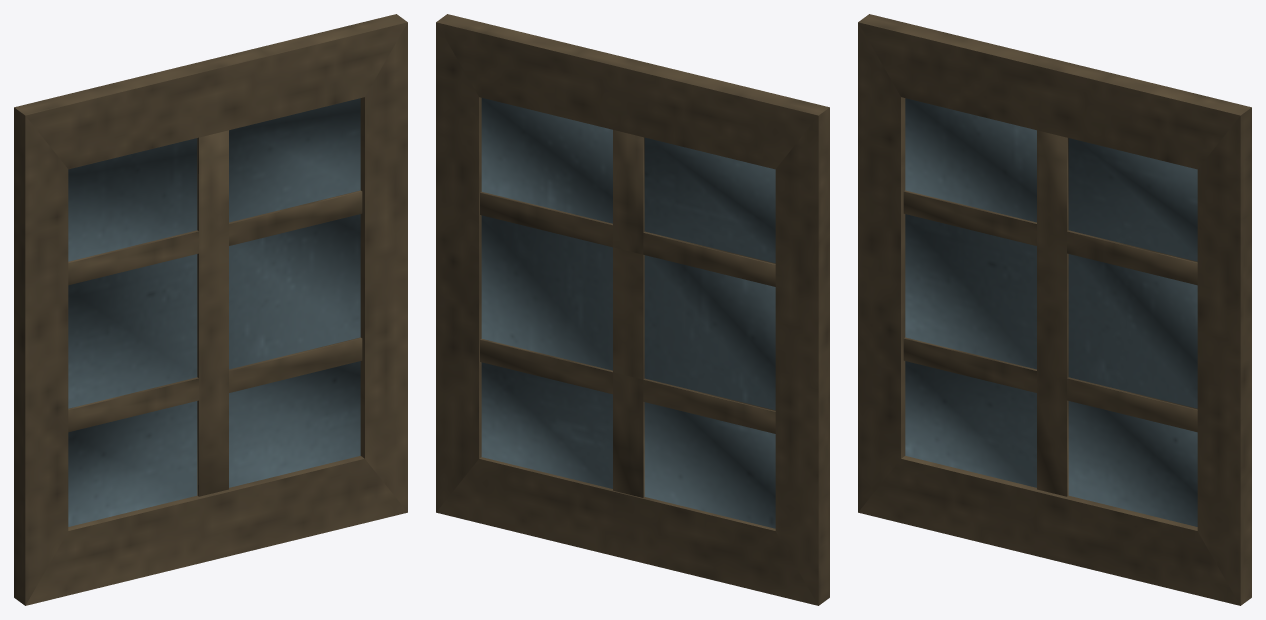
File: MS_Window_2.fbx
3 renders of one model, left to right at view 1: azimuth 30°, elevation 25°; view 2: azimuth 150°, elevation 25°; view 3: azimuth 330°, elevation 25°, orthographic.
Parts seen in each view (by area): view 1: Cube; view 2: Cube; view 3: Cube.
Boxes of the visible parts, bbox=[...] form: Cube: bbox=[14, 14, 407, 605]; Cube: bbox=[436, 14, 829, 605]; Cube: bbox=[858, 14, 1251, 605].
Bounding box in the file's own units: 191 × 234 × 9.76.
